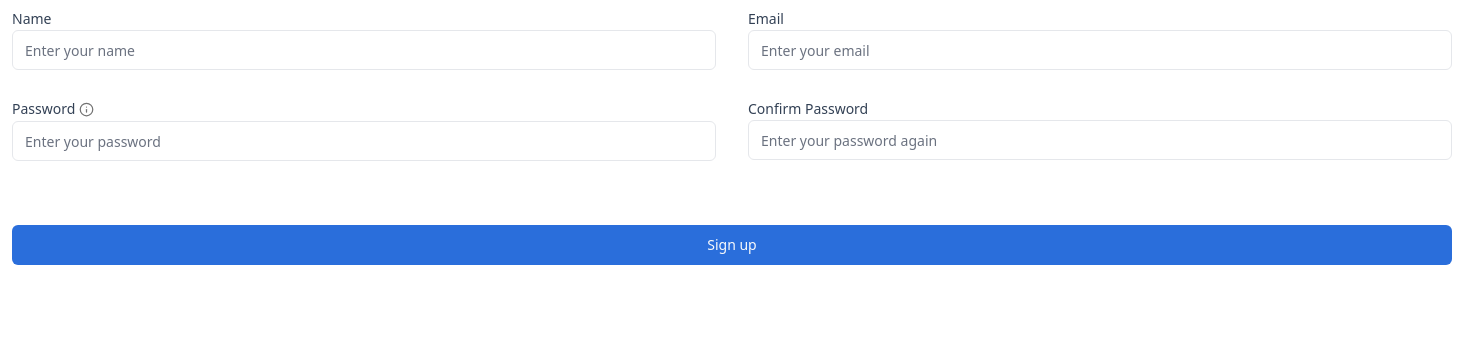
Test: Register Component: › validate form inputs
Type "invalid-email" into the field labelled "Email" at (1100, 50), box [748,30,1452,70]
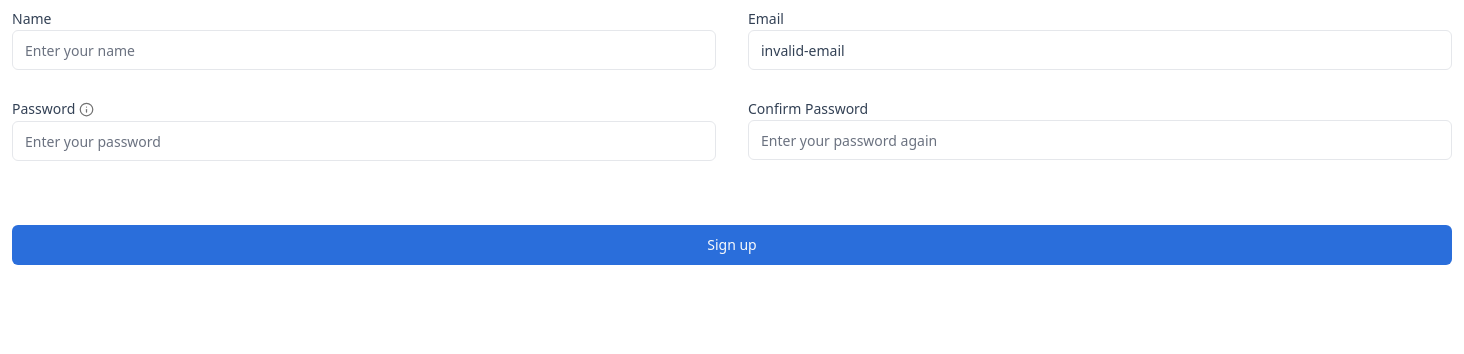
Type "123" into the password field with test id "password" at (364, 141), box [12,121,716,161]
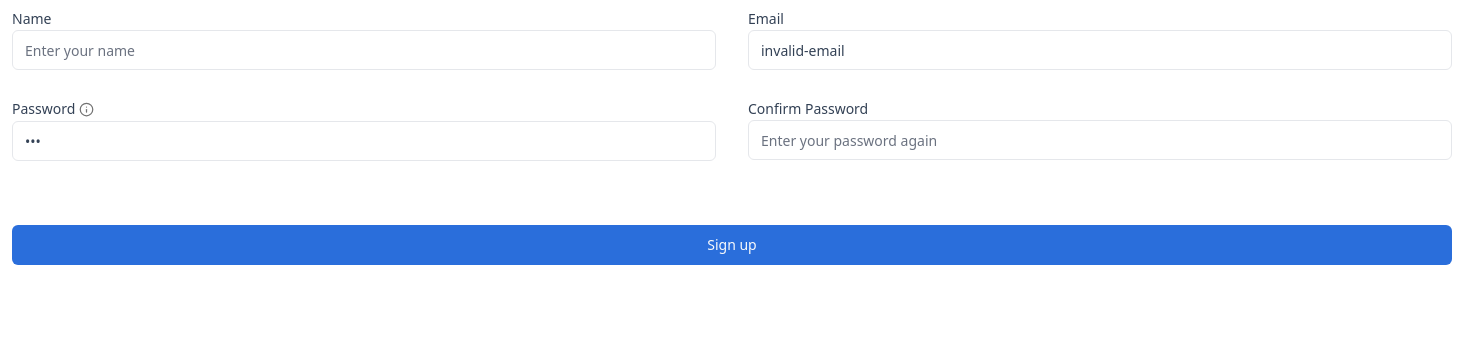
Type "1234" into the password field labelled "Confirm Password" at (1100, 140), box [748,120,1452,160]
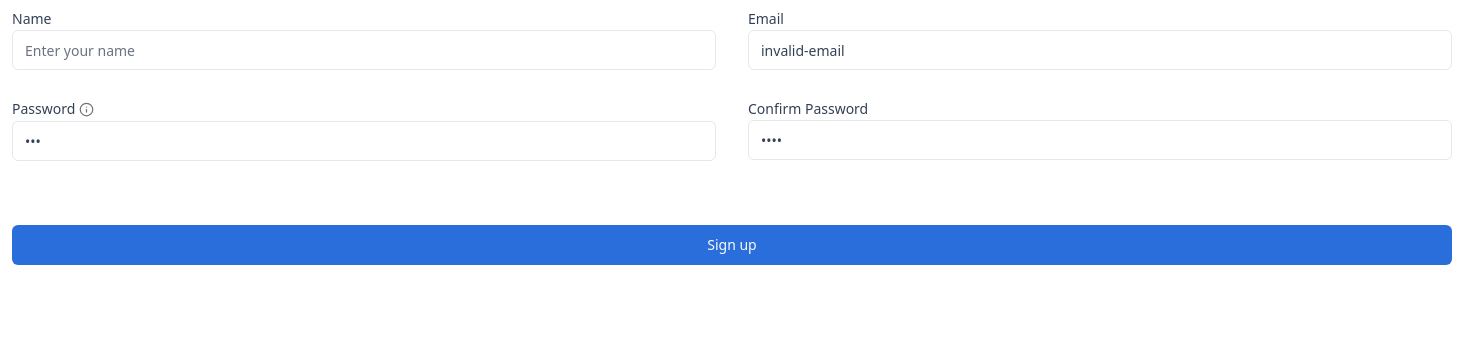
Submit the form from the button "Sign up", box [12,225,1452,265]
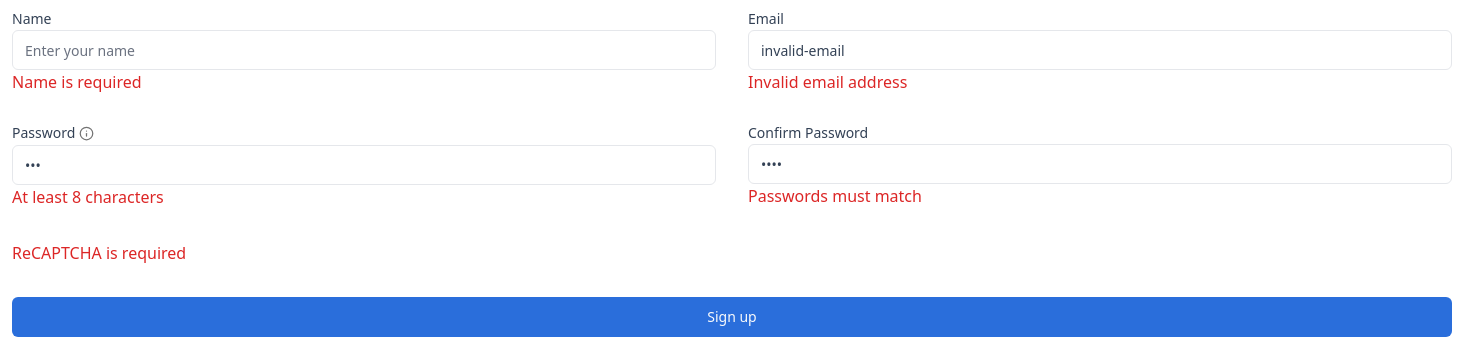
expect the text "Name is required" is shown: met, box [12,71,142,93]
expect the text "Invalid email address" is shown: met, box [748,71,907,93]
expect the text "At least 8 characters" is shown: met, box [12,186,164,208]
